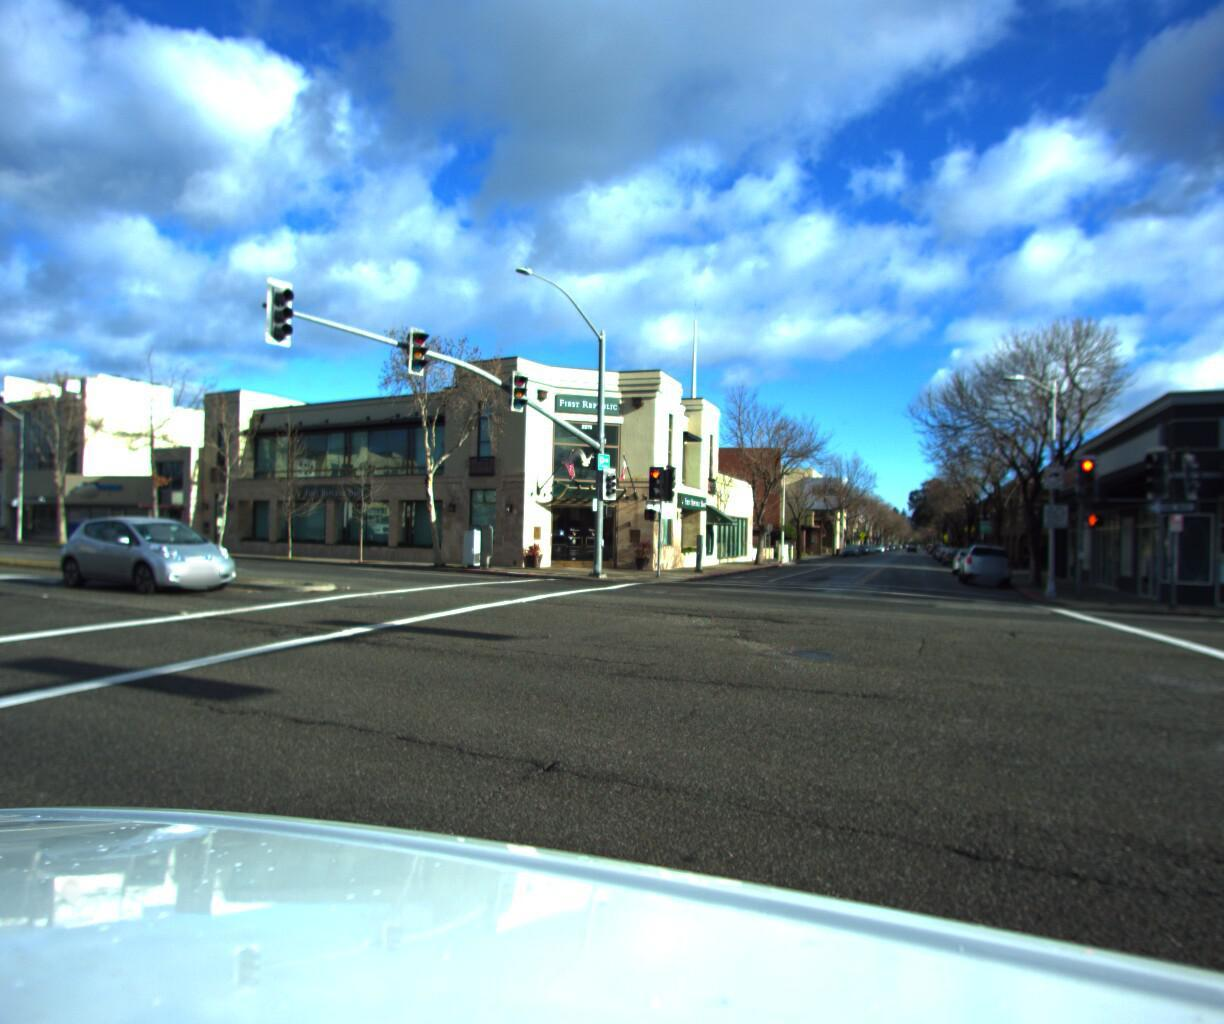car: (49, 510, 246, 595), (953, 535, 1018, 586), (935, 537, 968, 560)
